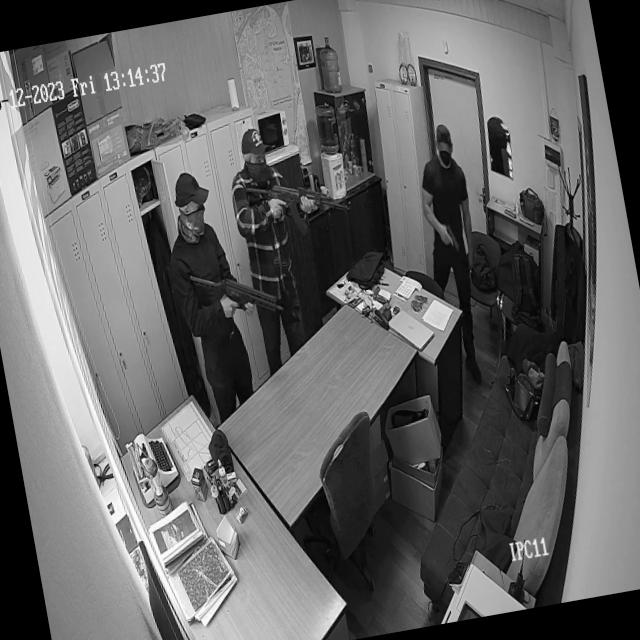gun: (184, 252, 285, 331), (242, 164, 348, 234), (440, 218, 462, 258)
person with a gun: (156, 167, 258, 414), (411, 123, 497, 381), (223, 125, 310, 360)
